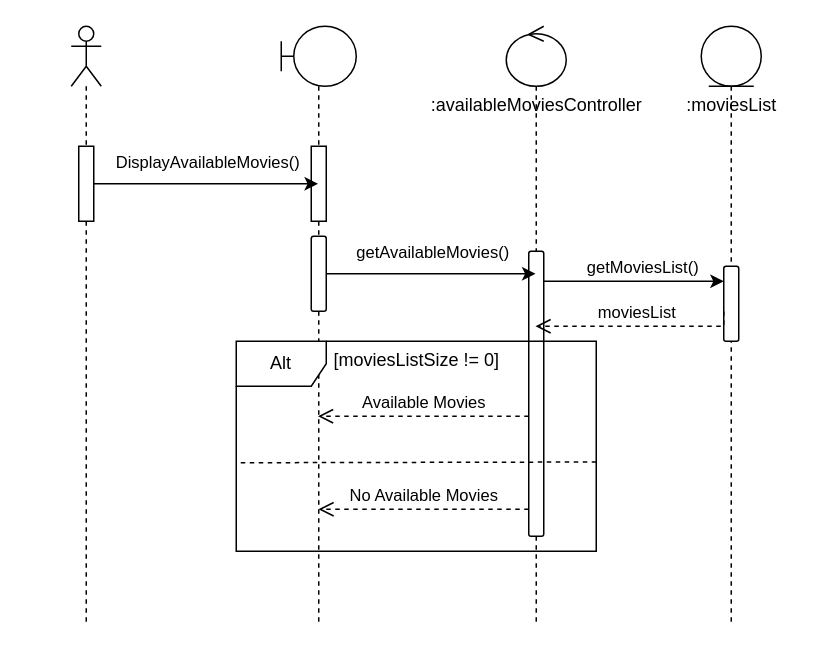
The diagram is 816 pixels wide and 653 high, and some of its shapes have lost their labels. The box of each missing label's shape, as (x1, y1, x2, y2) in pixels:
:availableMoviesPage: (280, 25, 356, 626)
Customer: (70, 25, 101, 626)
